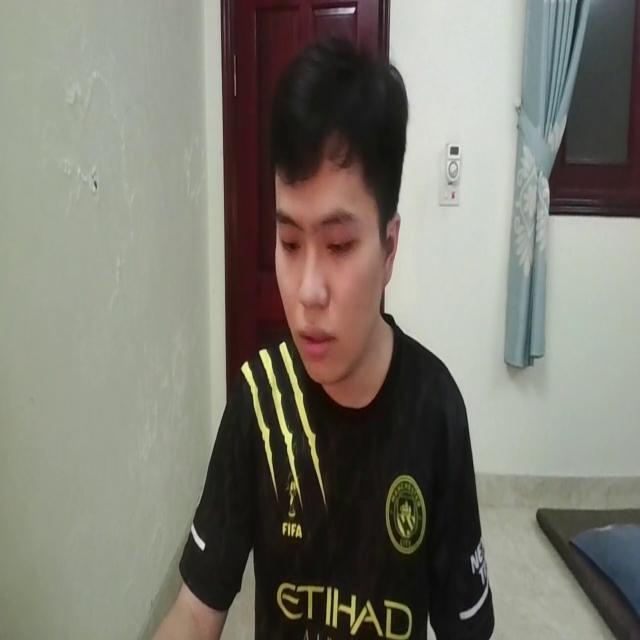student: (163, 28, 493, 640)
